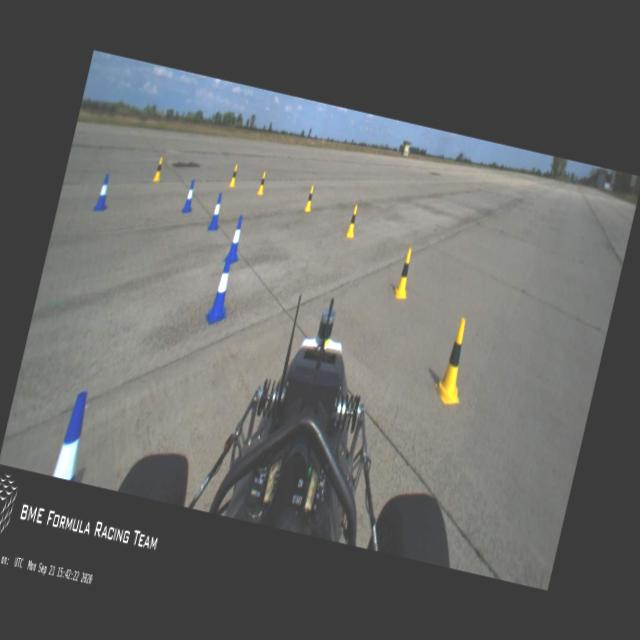blue_cone: (53, 388, 94, 481), (203, 252, 240, 326), (222, 214, 248, 266), (93, 172, 114, 214), (207, 192, 226, 233), (180, 178, 198, 215)
yellow_cone: (432, 314, 477, 407), (392, 248, 416, 298), (344, 202, 360, 238), (152, 155, 165, 183), (303, 185, 316, 213), (255, 171, 268, 196), (228, 163, 240, 188)
